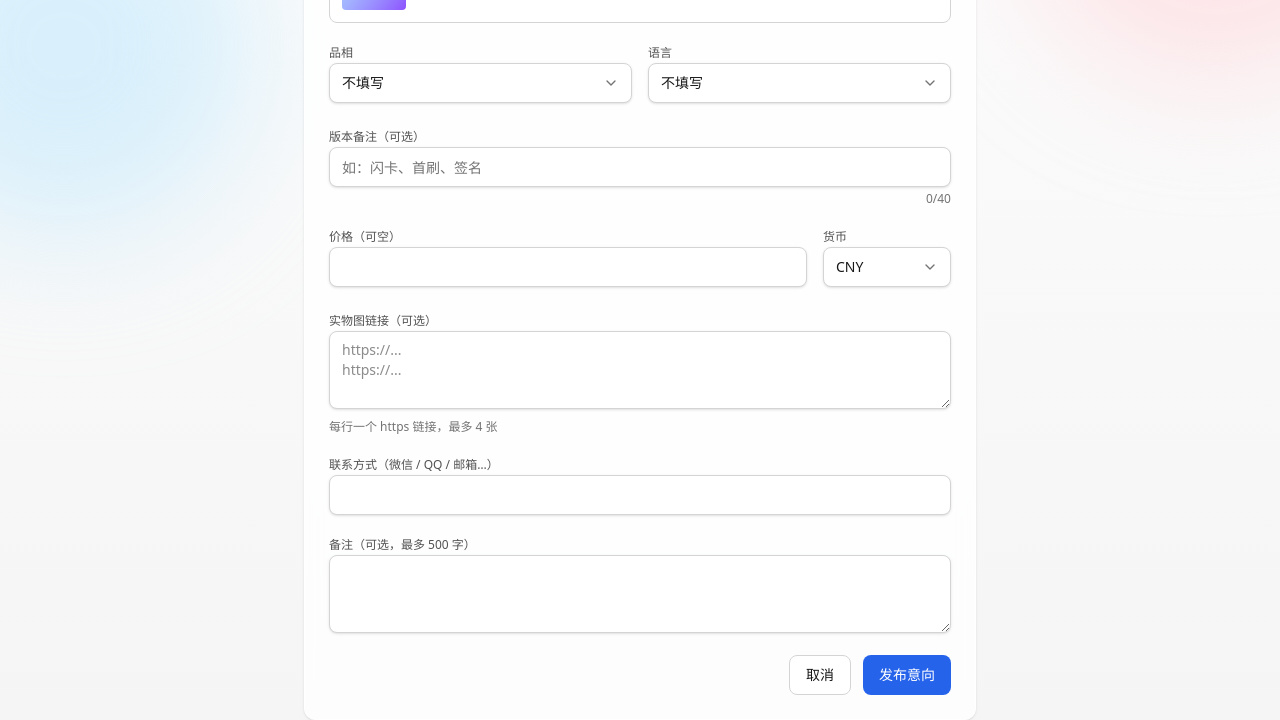
TradePublishPage › focuses the contact field when the card is already selected
The width and height of the screenshot is (1280, 720).
(page scrolled)
Step 1. Click the button "发布意向" → (907, 675), box [863,655,951,695]
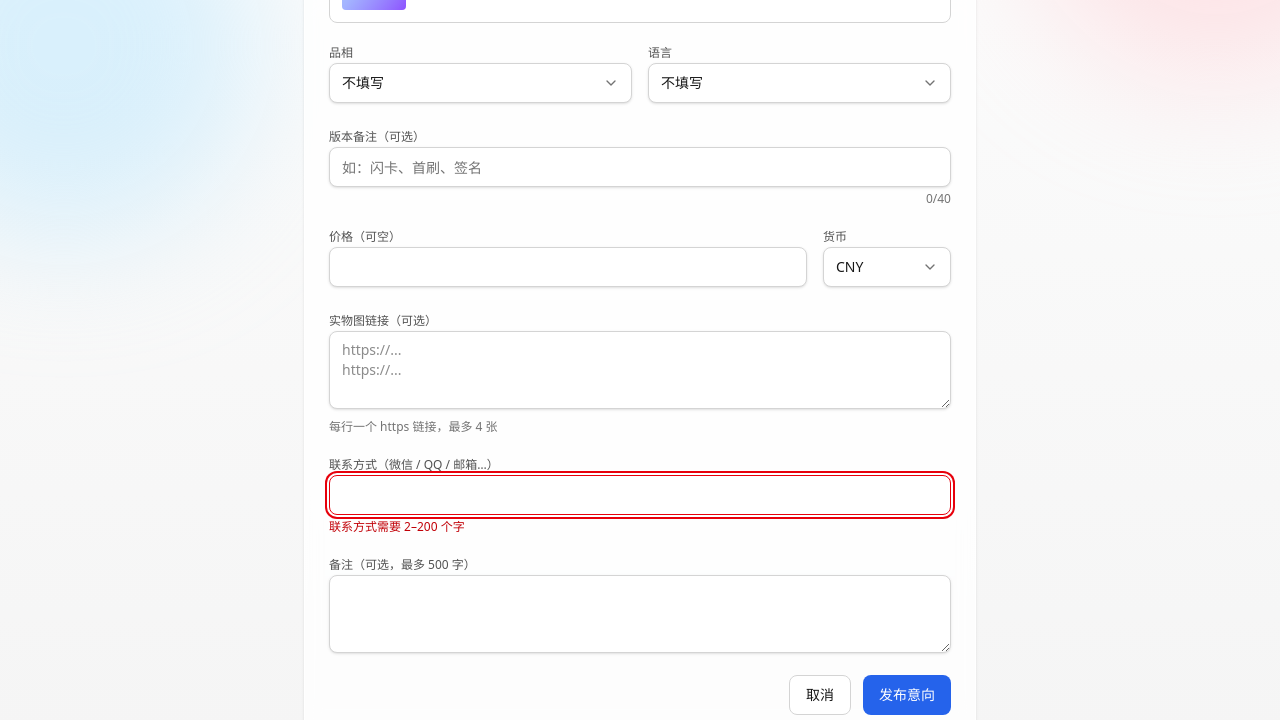
Check: the text "联系方式需要 2–200 个字" is shown, box [329,518,465,535]
